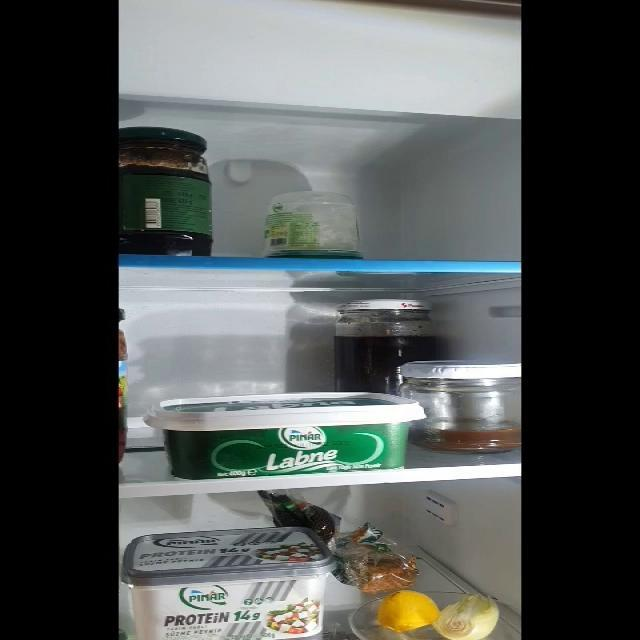cheese: (126, 525, 331, 640), (147, 395, 410, 470)
lemon: (378, 589, 439, 629)
onion: (438, 593, 500, 639)
